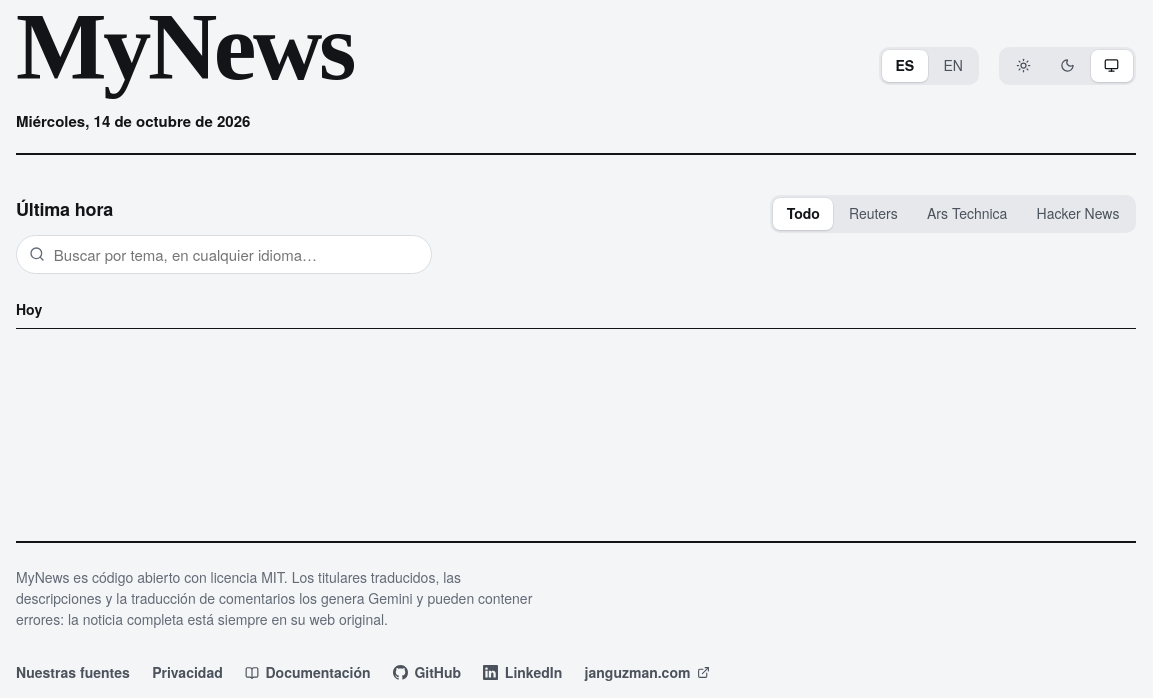
Scenario: App › switches the whole interface to English and remembers it
Click the button with aria-label "English": (953, 66) top-left (930, 50), bottom-right (976, 82)
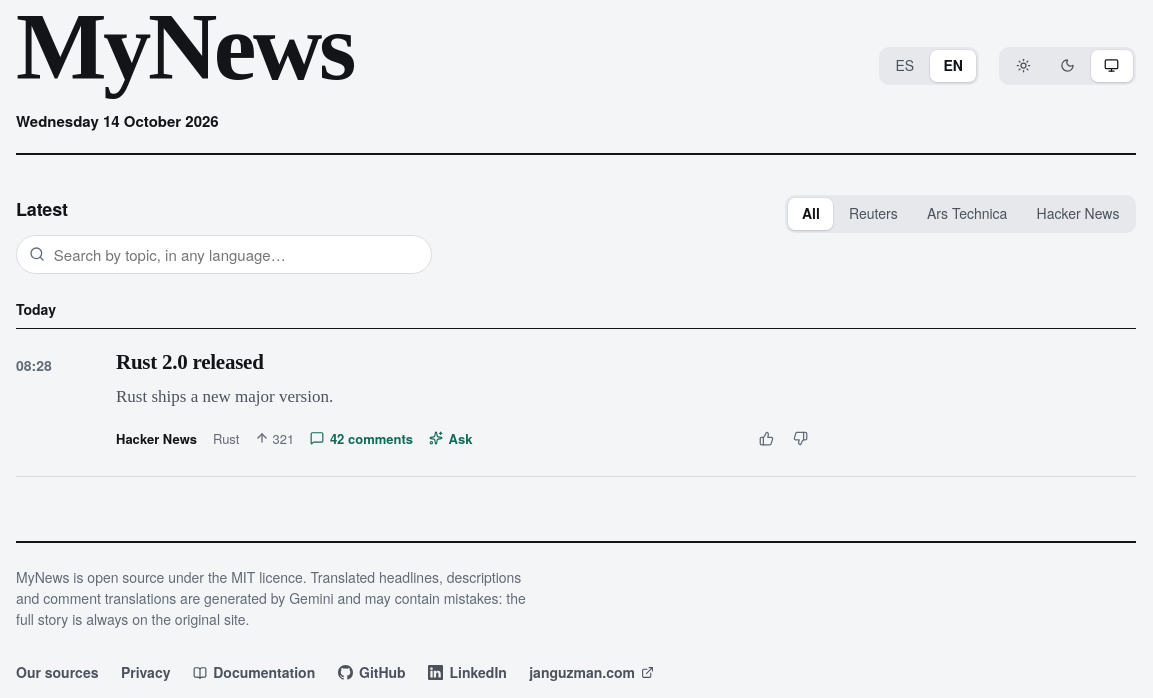
Expected: the link "Rust 2.0 released" is shown, top-left (116, 350), bottom-right (264, 374)
Expected: the text "Rust ships a new major version." is shown, top-left (116, 387), bottom-right (333, 406)
Expected: the heading "Latest" is shown, top-left (16, 196), bottom-right (68, 222)
